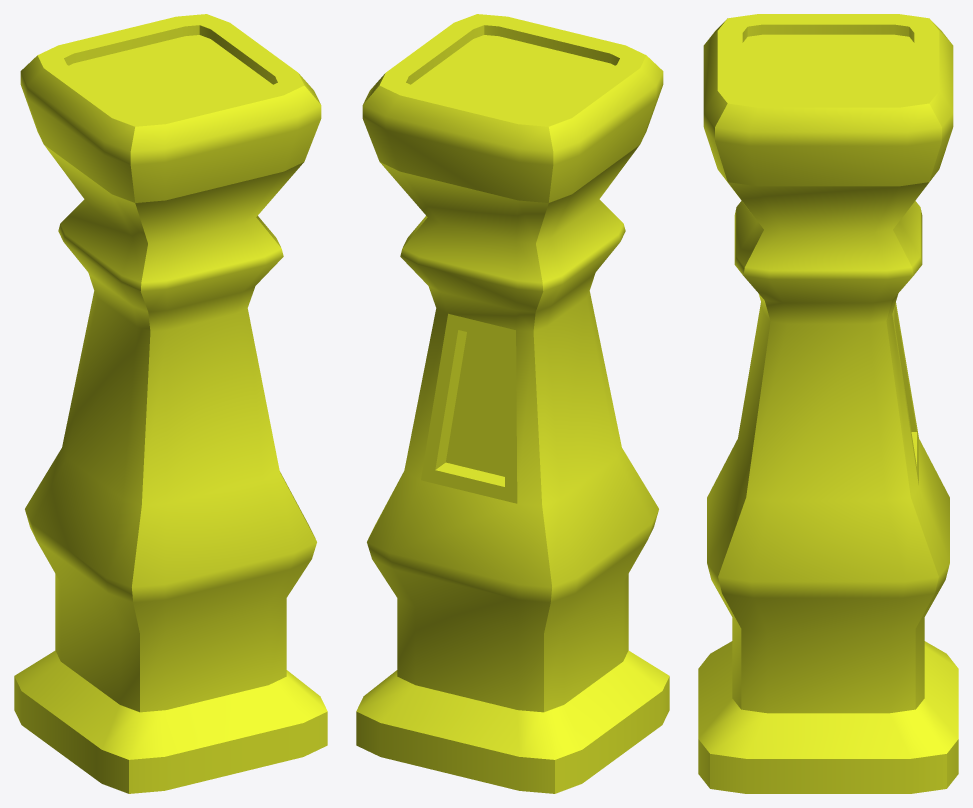
File: Altar.fbx
The picture shows the model from 3 angles, left to right: view 1: azimuth 30°, elevation 25°; view 2: azimuth 150°, elevation 25°; view 3: azimuth 270°, elevation 25°; orthographic projection. The views are drawn at different scales.
Parts seen in each view (by area): view 1: Altar; view 2: Altar; view 3: Altar.
Part boxes in pixels (left/top/right/bottom): Altar: left=14, top=14, right=327, bottom=793; Altar: left=356, top=14, right=669, bottom=793; Altar: left=698, top=14, right=958, bottom=793.
Size of the model in its own units: 13.87 by 39.82 by 13.87.
